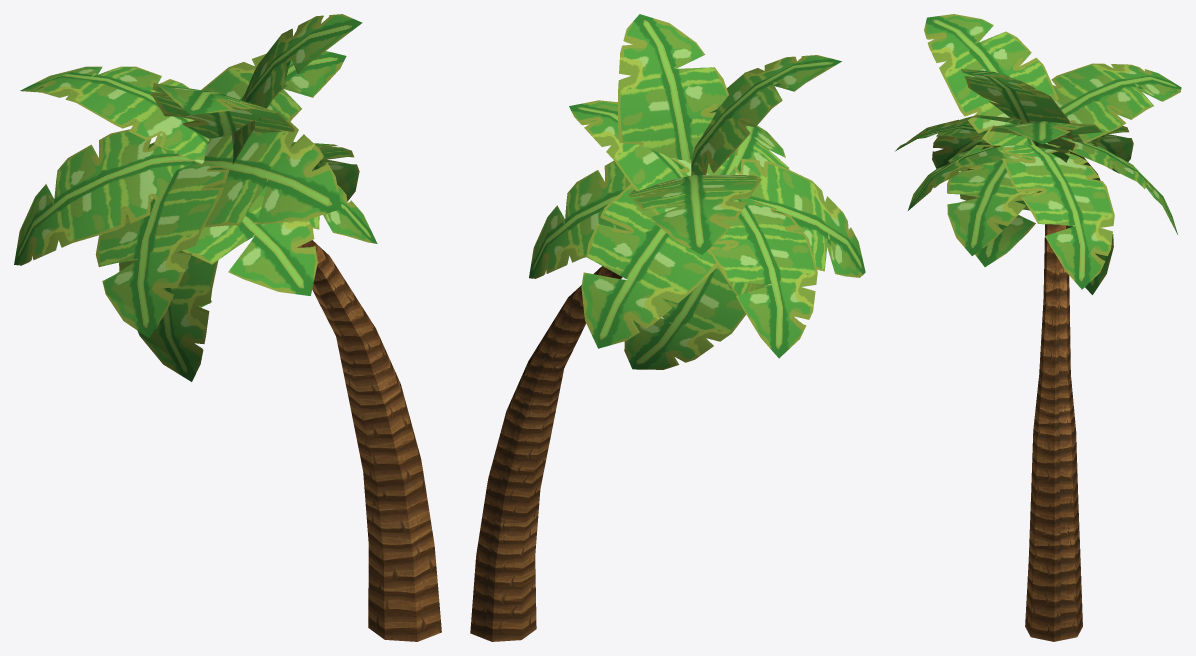
Rendered from MBL_Palm3_v2.fbx.
3 views of the same model, side by side, from view 1: azimuth 30°, elevation 25°; view 2: azimuth 150°, elevation 25°; view 3: azimuth 270°, elevation 25° (orthographic). The views are drawn at different scales.
Parts seen in each view (by area): view 1: MBL_Palm3_v2_trunkShape; view 2: MBL_Palm3_v2_trunkShape; view 3: MBL_Palm3_v2_trunkShape.
Part boxes in pixels (x1=…): MBL_Palm3_v2_trunkShape: x1=14, y1=14, x2=441, y2=641; MBL_Palm3_v2_trunkShape: x1=470, y1=14, x2=865, y2=641; MBL_Palm3_v2_trunkShape: x1=895, y1=14, x2=1181, y2=641.
Size of the model in its own units: 5.06 by 8.25 by 4.14.
2 materials, 2 textured.
